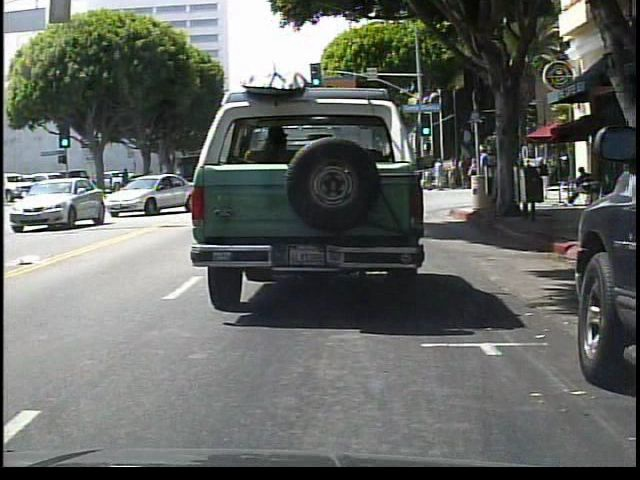person: (566, 165, 599, 208), (503, 151, 520, 217), (479, 147, 496, 206), (468, 157, 481, 204), (527, 165, 539, 202), (539, 158, 549, 201), (435, 161, 447, 194), (461, 156, 471, 190), (448, 157, 458, 189), (425, 167, 435, 192)
